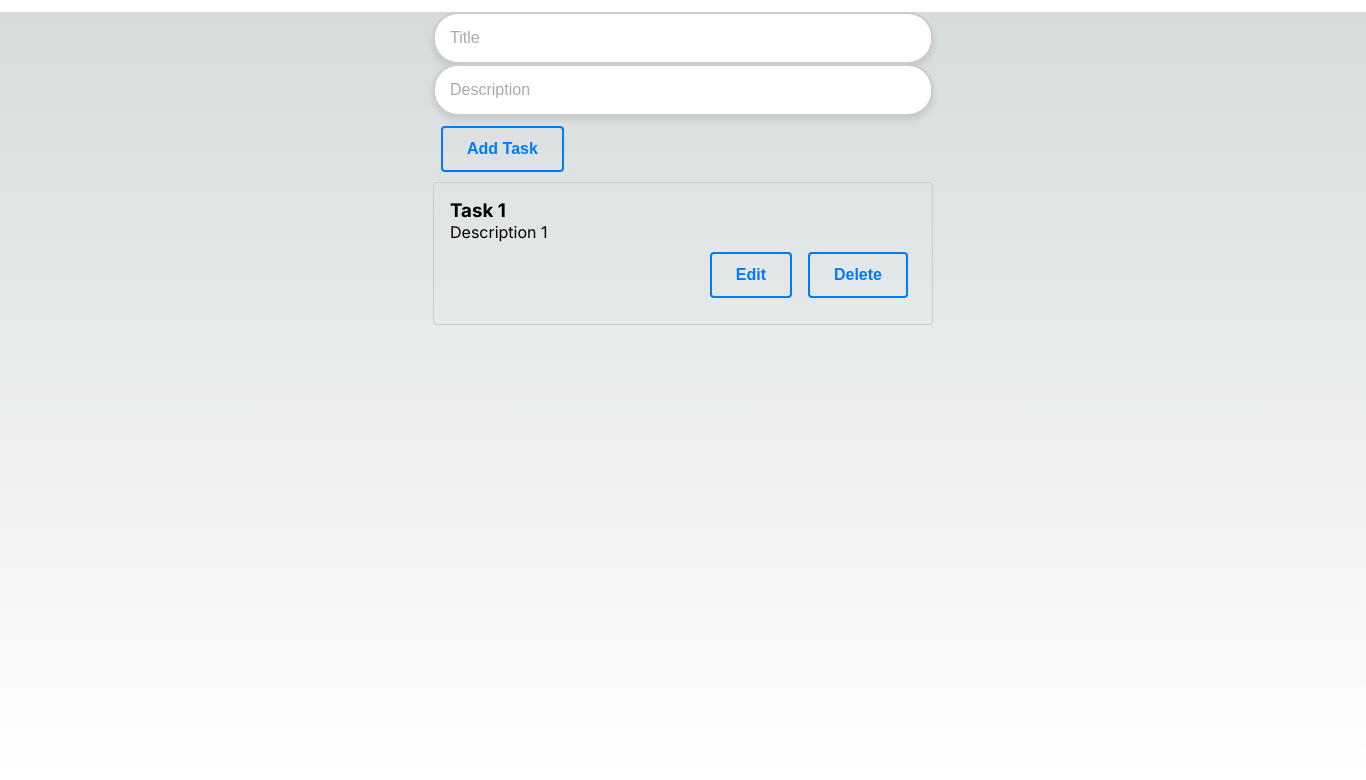
Test case: TaskManager › deletes a task
Check: the heading "Task 1" is shown, box [450, 199, 506, 222]
Click the button "Delete": (858, 275) [808, 252, 908, 298]
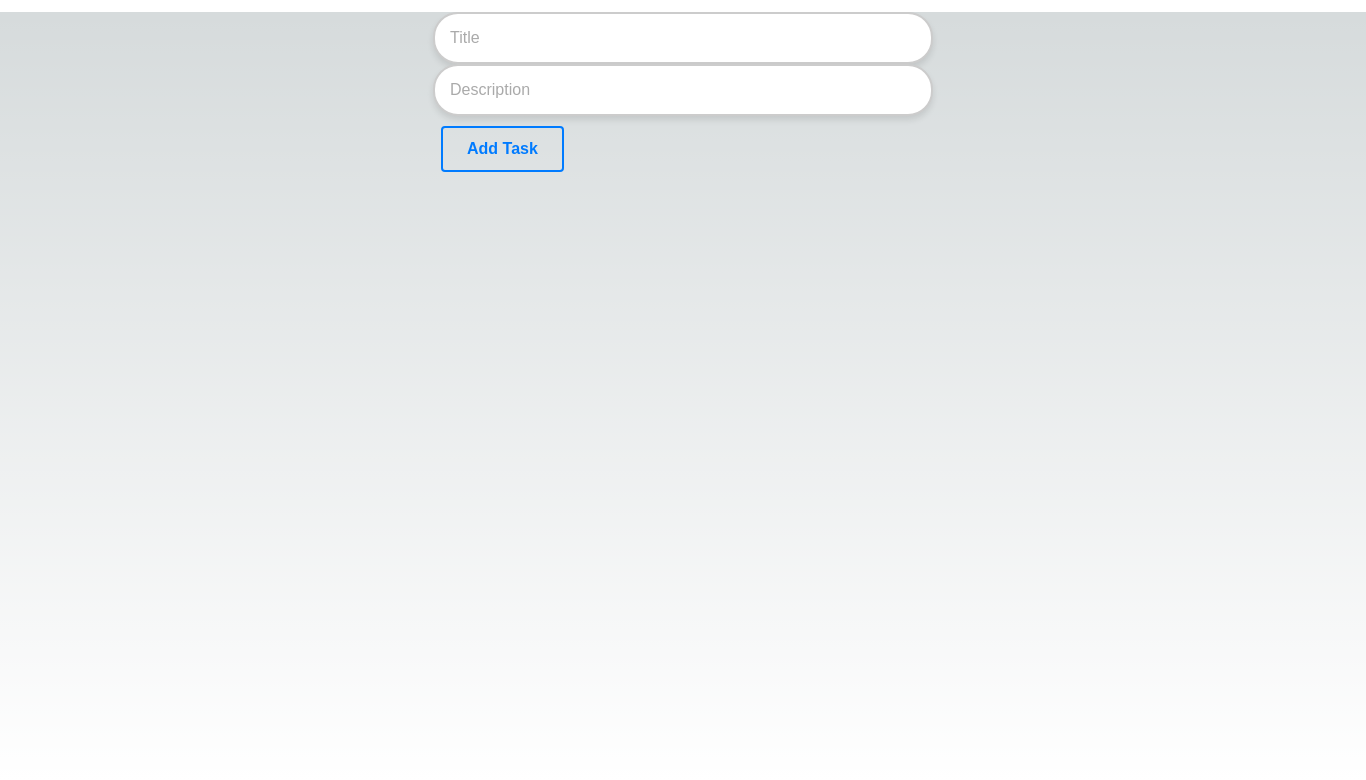
Check: the heading "Task 1" is gone
